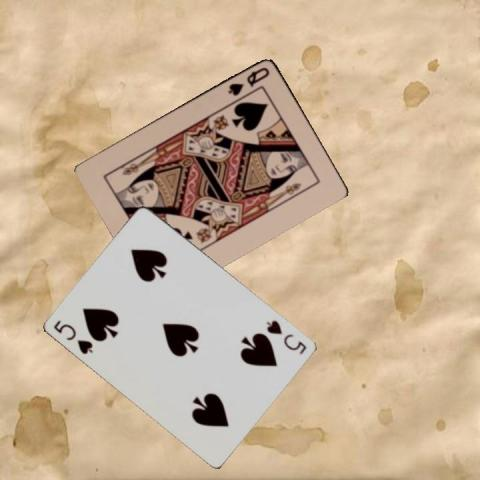5s: (263, 317, 309, 356), (50, 317, 94, 356)
Qs: (225, 63, 271, 98)
